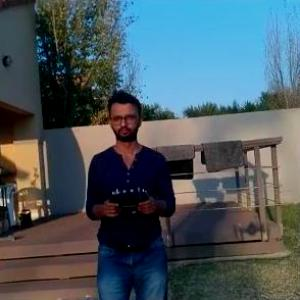follow: (80, 84, 180, 299)
